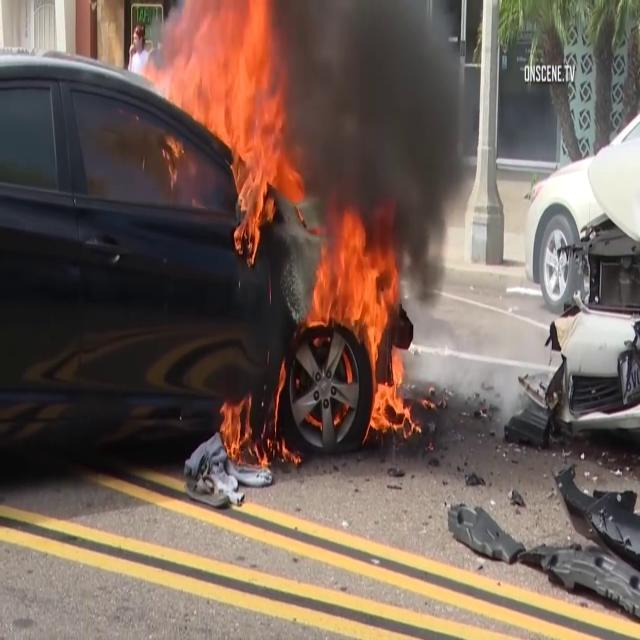Fire: (184, 9, 398, 354), (212, 399, 286, 471), (367, 352, 423, 442)
Smoke: (300, 0, 484, 262)
